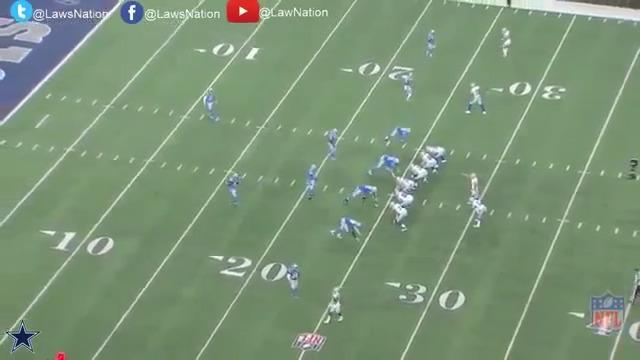defense: (329, 215, 365, 241), (368, 153, 402, 176), (382, 126, 414, 150), (224, 171, 243, 210), (284, 261, 302, 302), (344, 184, 379, 204), (203, 87, 220, 123), (305, 162, 320, 202), (424, 28, 439, 62), (325, 126, 339, 162), (399, 74, 415, 105)
oline: (389, 200, 409, 233), (392, 189, 414, 218), (410, 164, 429, 191), (419, 151, 439, 176), (394, 174, 415, 194)
qb: (469, 170, 485, 202)
skill: (326, 287, 347, 328), (464, 82, 487, 117), (468, 194, 487, 229), (496, 26, 513, 60), (426, 144, 448, 164)
